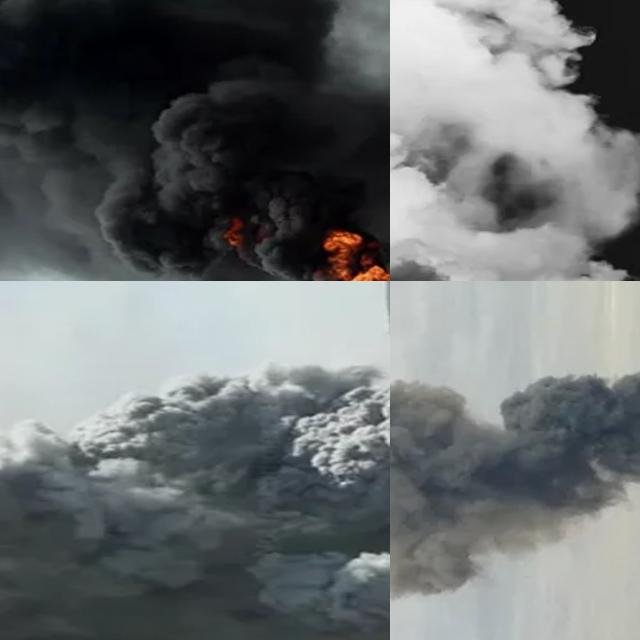smoke: (0, 315, 390, 640), (0, 0, 390, 281), (390, 335, 640, 630), (390, 0, 640, 281)
